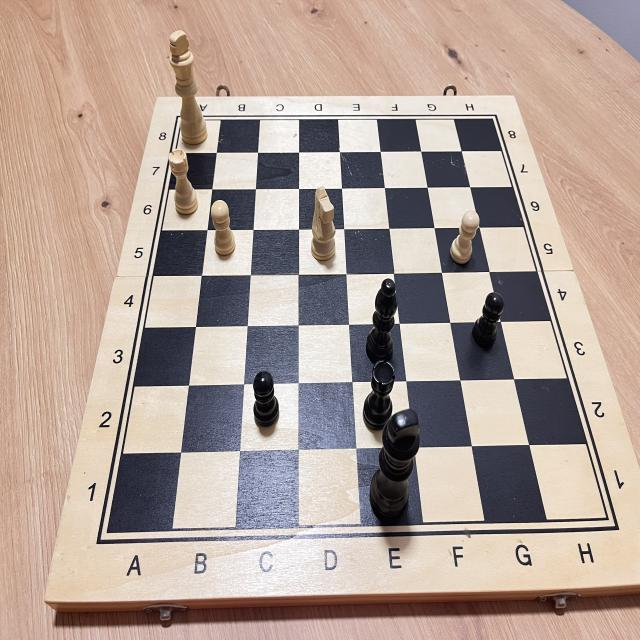black-bishop: (364, 270, 401, 370)
black-king: (366, 402, 428, 532)
black-pawn: (466, 282, 510, 356), (247, 365, 282, 432)
black-rook: (354, 354, 406, 439)
white-king: (167, 22, 210, 148)
white-knight: (303, 179, 342, 272)
white-pawn: (206, 188, 242, 268), (448, 203, 483, 266)
white-rook: (163, 148, 204, 222)
